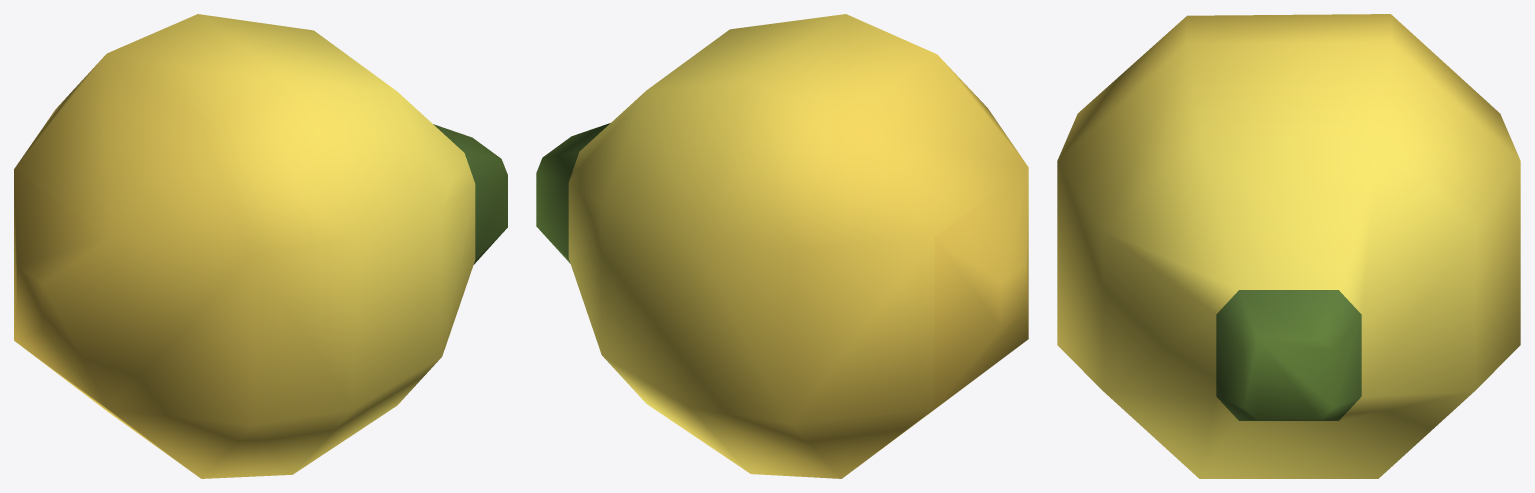
File: lemon.fbx
3 views of the same model, side by side, from view 1: azimuth 30°, elevation 25°; view 2: azimuth 150°, elevation 25°; view 3: azimuth 270°, elevation 25° (orthographic). The views are drawn at different scales.
Parts seen in each view (by area): view 1: lemon; view 2: lemon; view 3: lemon.
Boxes of the visible parts, x1,y1,x2,y2 form: lemon: (14, 14, 507, 478); lemon: (536, 14, 1028, 478); lemon: (1057, 14, 1520, 478).
Size of the model in its own units: 0.2097 by 0.1718 by 0.1718.
